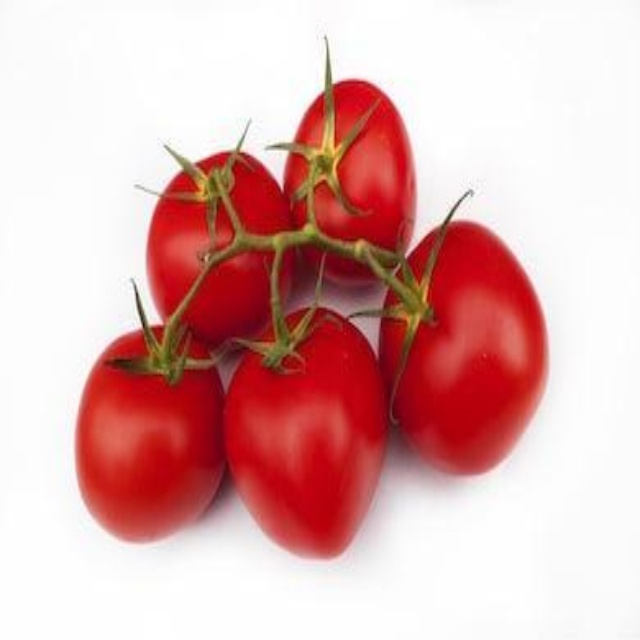tomato: (216, 307, 399, 564), (376, 210, 544, 483), (76, 325, 228, 544), (274, 79, 414, 283), (147, 156, 289, 331)
